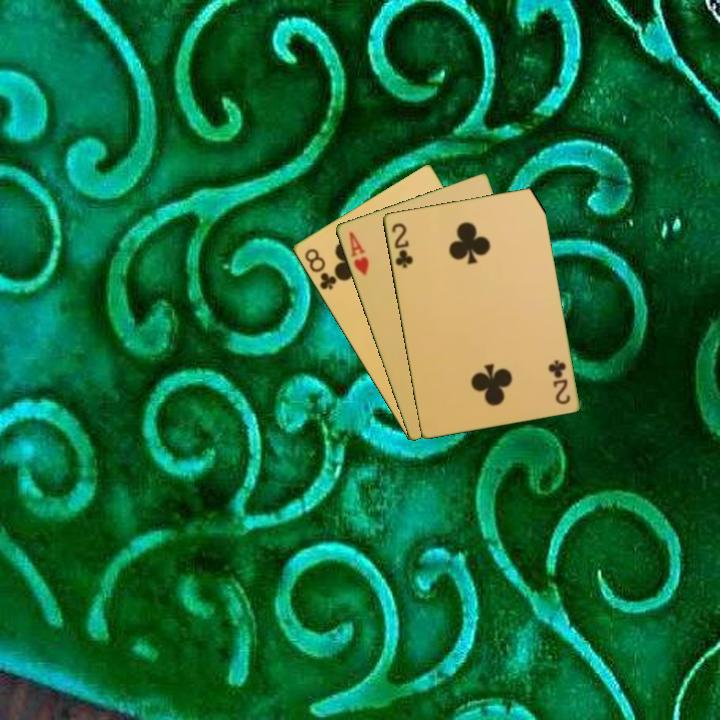2c: (388, 219, 416, 271), (545, 356, 573, 407)
8c: (301, 245, 339, 293)
Ah: (345, 227, 371, 278)
